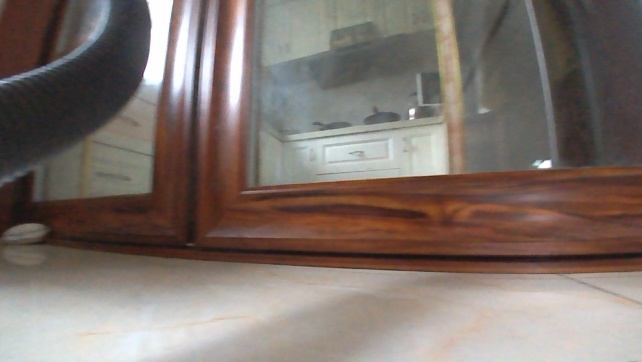cupboard: (255, 105, 451, 185)
